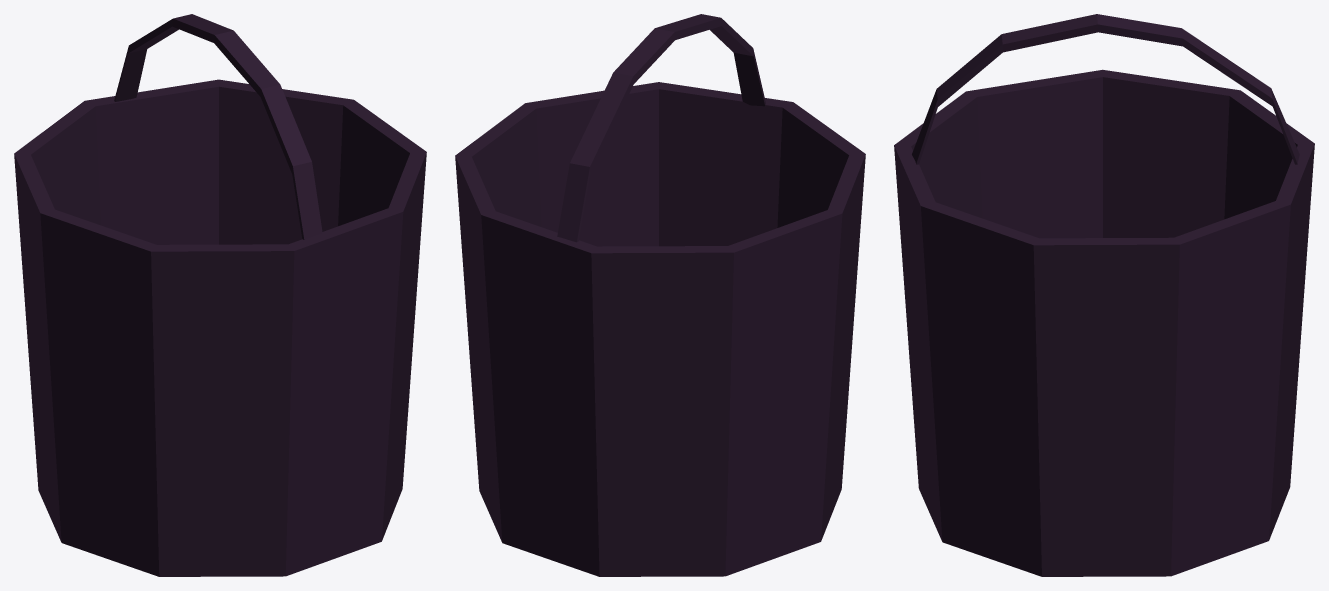
Rendered from bucket.fbx.
The picture shows the model from 3 angles, left to right: view 1: azimuth 30°, elevation 25°; view 2: azimuth 150°, elevation 25°; view 3: azimuth 270°, elevation 25°; orthographic projection. The views are drawn at different scales.
Visible parts, largest first — view 1: Bucket, Handle; view 2: Bucket, Handle; view 3: Bucket, Handle.
Part boxes in pixels (x1,y1,x2,y2): Bucket: (14,79,426,576); Handle: (114,14,322,239); Bucket: (455,82,865,576); Handle: (557,14,765,242); Bucket: (894,69,1314,576); Handle: (912,14,1299,164).
Size of the model in its own units: 220 by 283 by 223.
